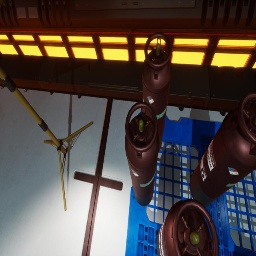NitrogenTank ,: (190, 92, 256, 207), (156, 198, 219, 256), (142, 32, 172, 152), (125, 102, 159, 206)
